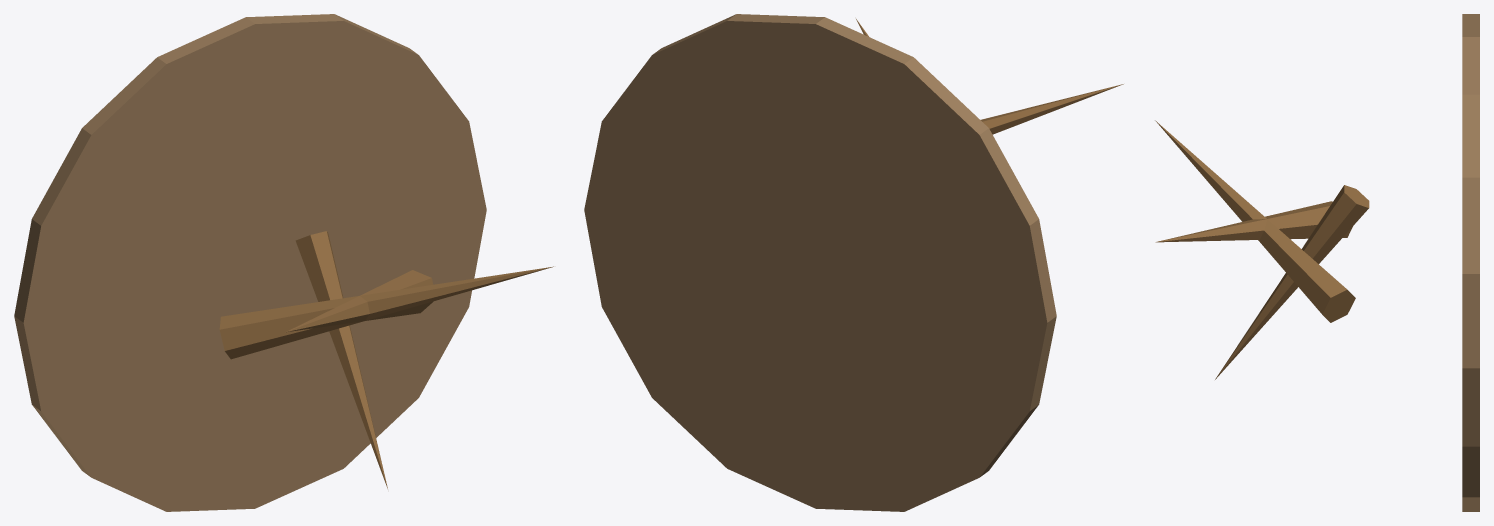
The model's file is vfx_root_snare_burst.glb.
3 renders of one model, left to right at view 1: azimuth 30°, elevation 25°; view 2: azimuth 150°, elevation 25°; view 3: azimuth 270°, elevation 25°, orthographic. The views are drawn at different scales.
Parts seen in each view (by area): view 1: earth, root_a, root_c, root_b; view 2: earth, root_b; view 3: earth, root_b, root_c, root_a.
Boxes of the visible parts, x1,y1,x2,y2 form: earth: (14,14,486,511); root_a: (219,266,553,359); root_c: (295,231,387,488); root_b: (286,270,433,332); earth: (584,14,1056,511); root_b: (981,84,1123,134); earth: (1462,14,1479,511); root_b: (1155,120,1355,322); root_c: (1215,185,1369,379); root_a: (1155,201,1352,242).
Bounding box in the file's own units: 1.7 × 1.7 × 1.11.
